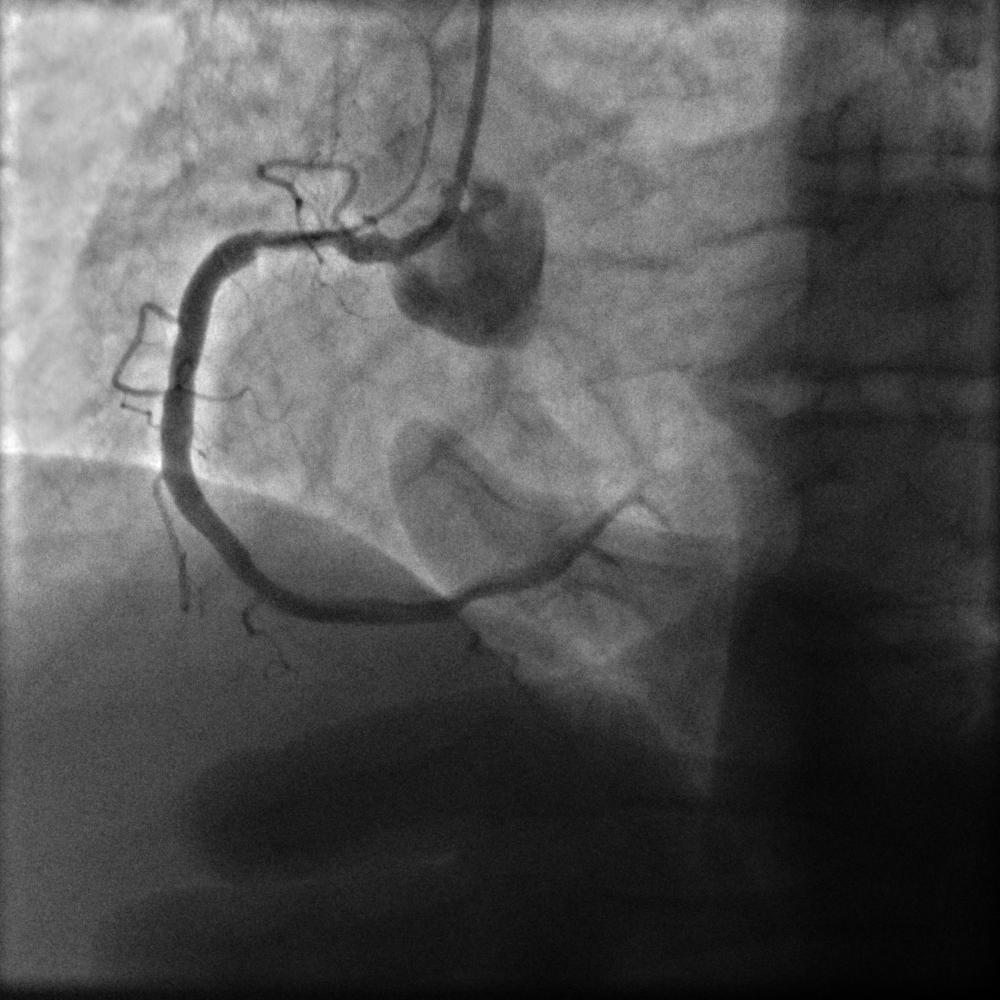Stenosis: (243, 213, 362, 271)
